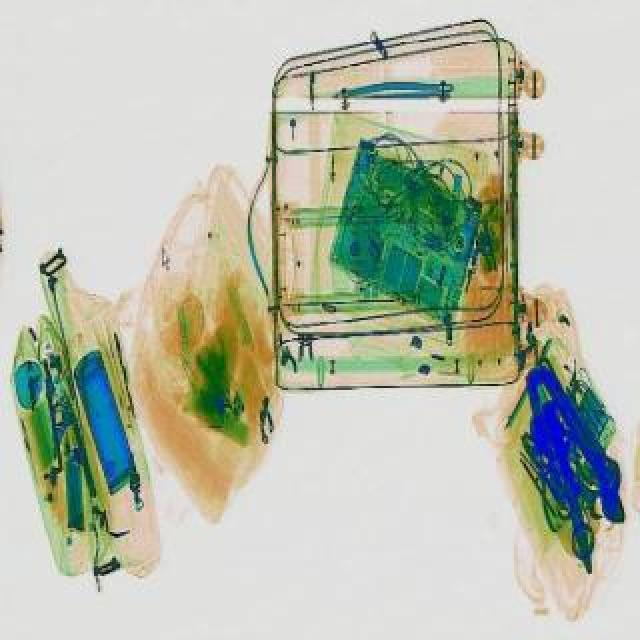scissors: (526, 352, 640, 520)
